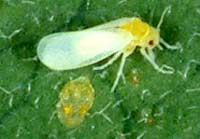whitefly: (35, 6, 177, 92)
